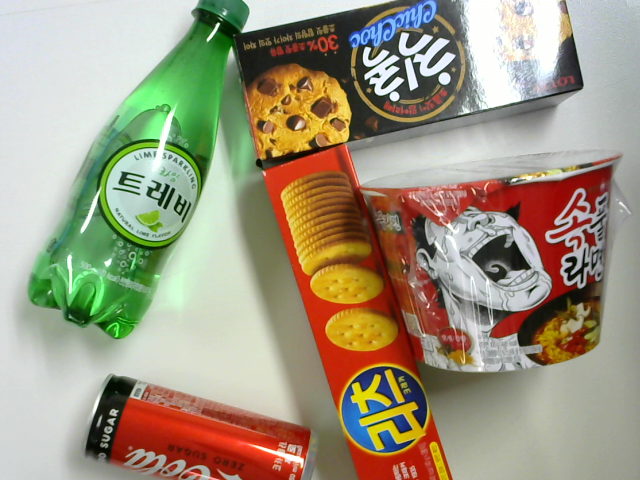Chicchok_Original_2400: (226, 1, 595, 171)
Coca_Cola_Zero_Can_250ml: (73, 369, 321, 480)
Hejangpul: (350, 147, 640, 380)
Ritz_Cracker: (248, 130, 457, 480)
Treviraim_500ml: (24, 1, 260, 352)
